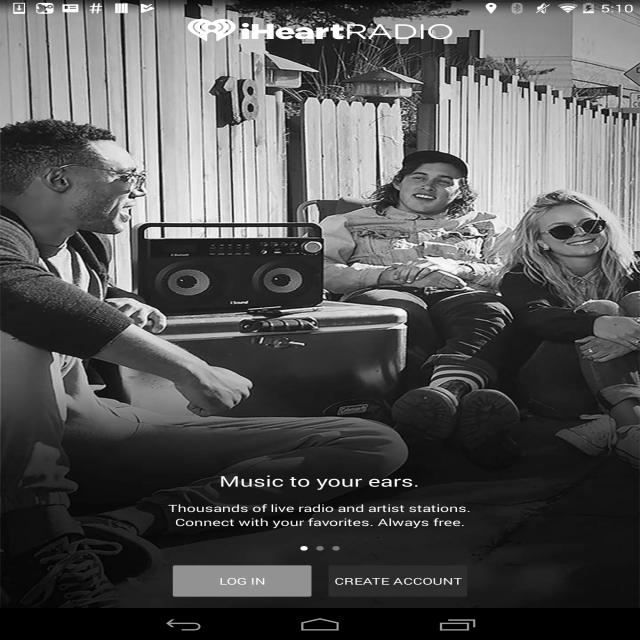Button: (165, 564, 318, 601), (326, 564, 473, 598)
ImageView: (177, 17, 233, 44)
TextView: (164, 504, 476, 527), (239, 23, 458, 41), (220, 474, 416, 490)
